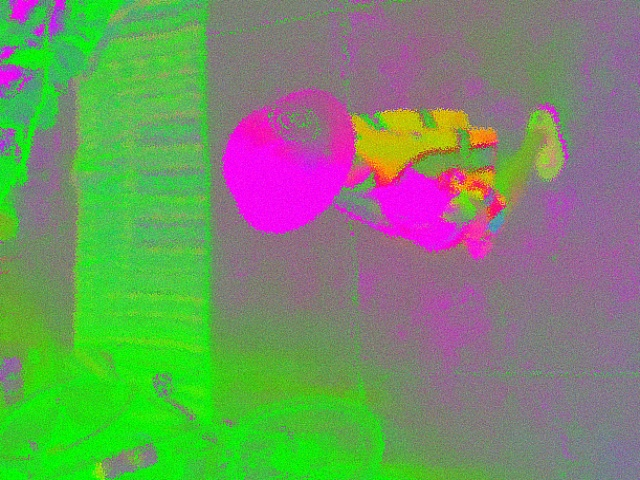eight: (271, 102, 317, 141)
